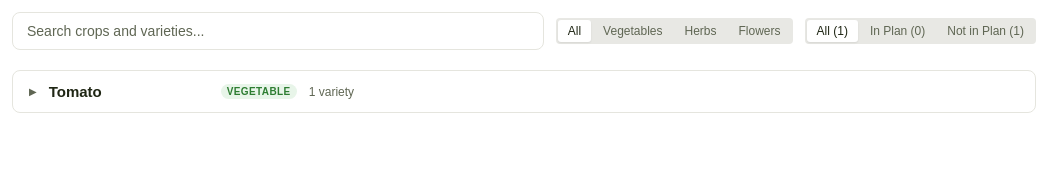
Scenario: LibraryView › empty state › shows filter message when filters result in no matches
The width and height of the screenshot is (1048, 185).
Type "Zucchini" into the field with placeholder "Search crops and varieties...".
click(278, 31); type("Zucchini")  # box [12, 12, 544, 50]
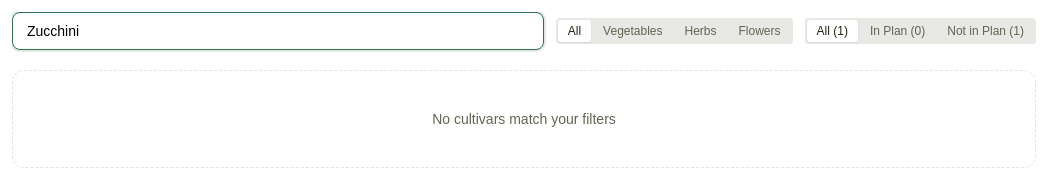
Expected: the text "No cultivars match your filters" is shown, [12, 70, 1036, 168]
